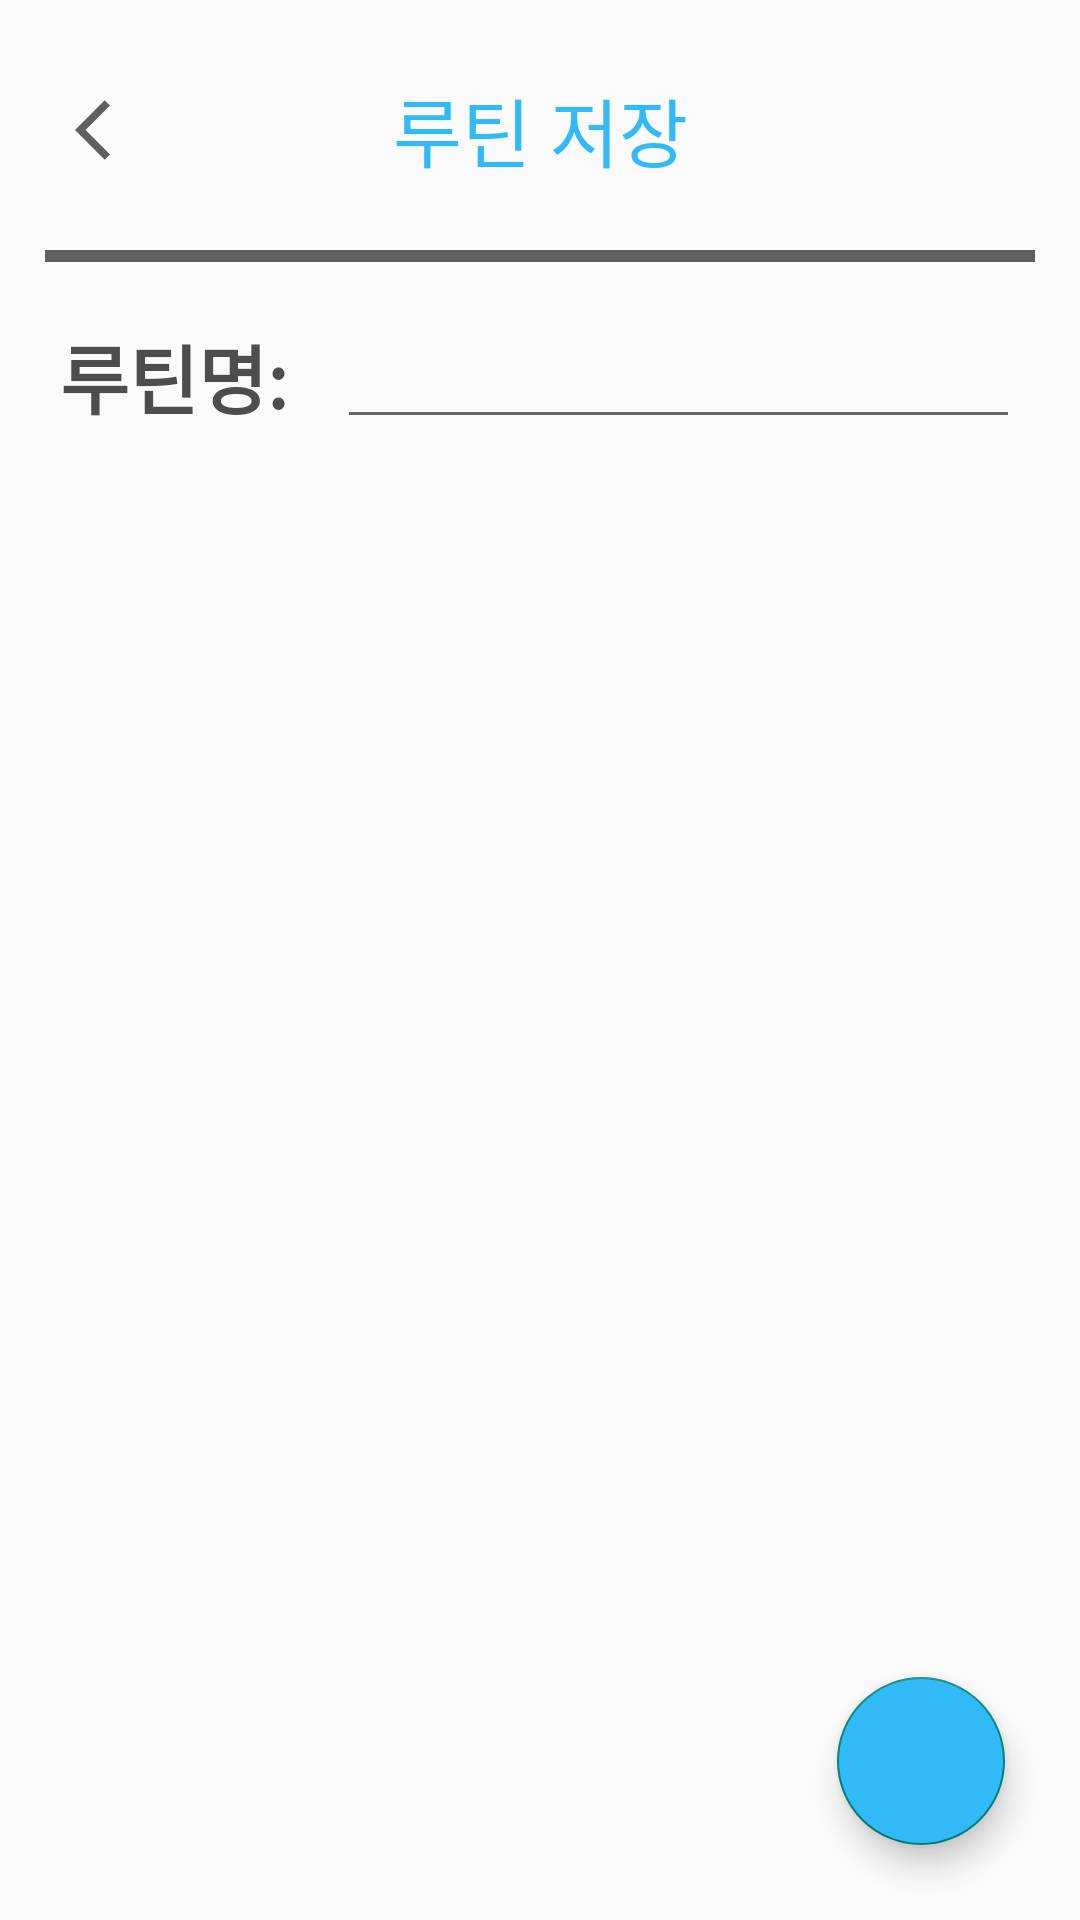

Where to tap for icons on this 1080×1920 app screen, as point (x, y):
back arrow: point (92, 130)
